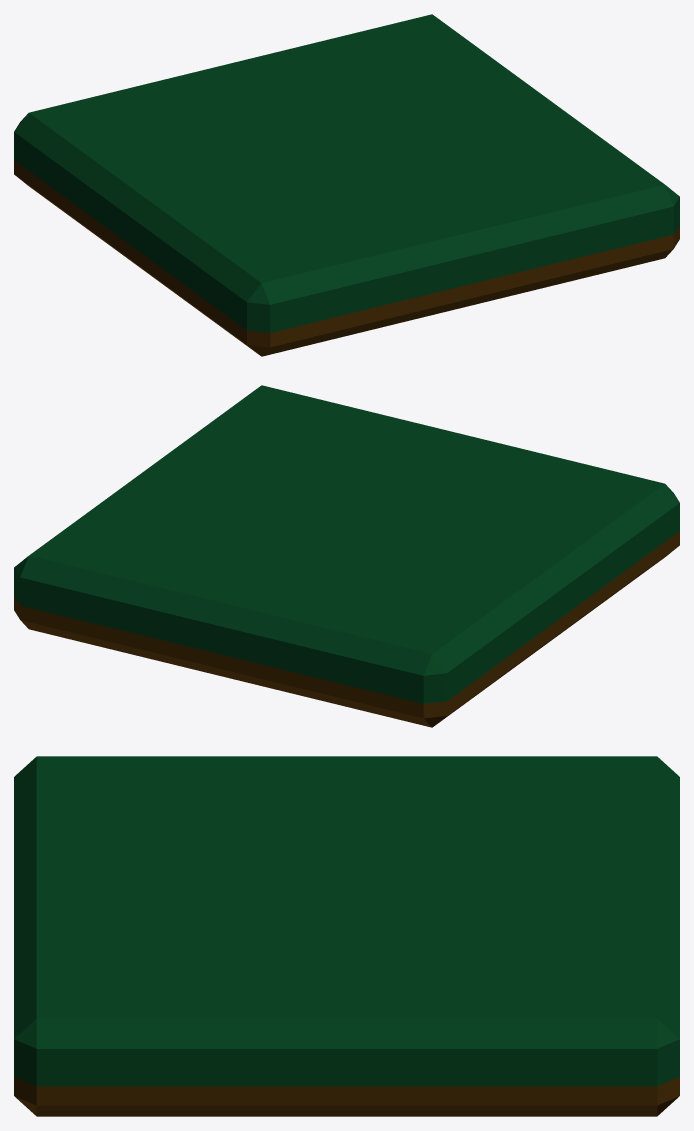
File: piatt bordata stondata.fbx
3 views of the same model, one above another, from view 1: azimuth 30°, elevation 25°; view 2: azimuth 150°, elevation 25°; view 3: azimuth 270°, elevation 25° (orthographic). The views are drawn at different scales.
Parts seen in each view (by area): view 1: pCube2; view 2: pCube2; view 3: pCube2.
Boxes of the visible parts, box(x1,y1,x2,y2) form: pCube2: box(14, 14, 679, 356); pCube2: box(14, 385, 679, 727); pCube2: box(14, 756, 679, 1116).
Bounding box in the file's own units: 3.99 × 0.6482 × 3.99.
